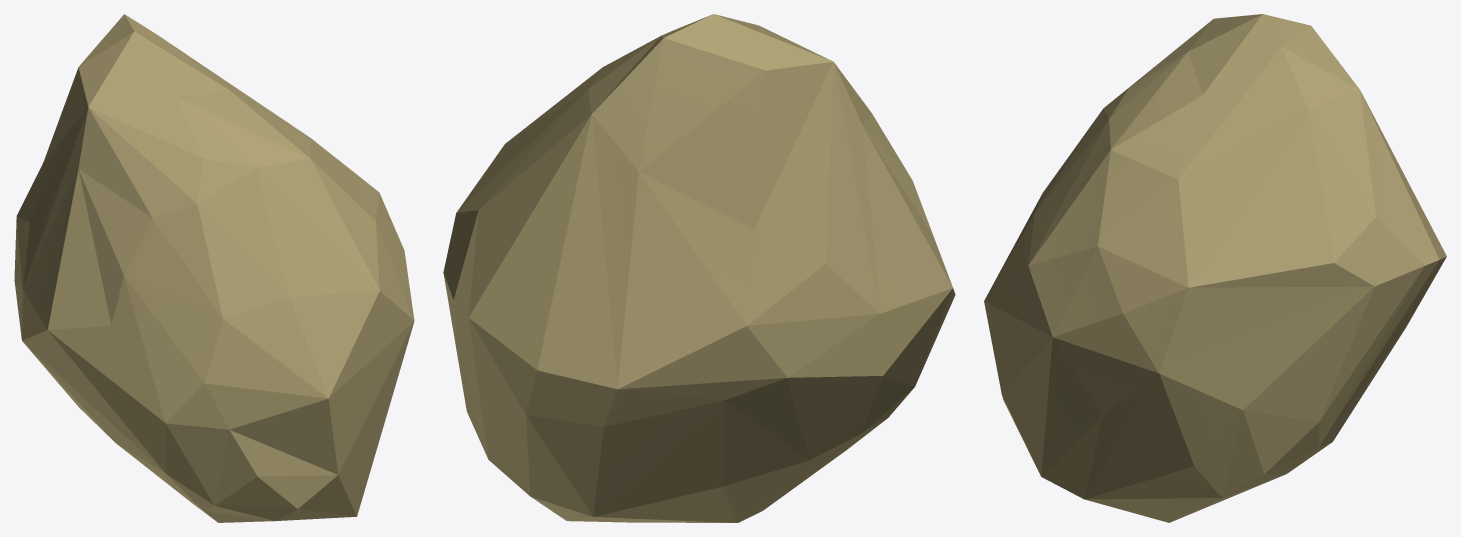
The model's file is SM_small_rock_45.fbx.
3 views of the same model, side by side, from view 1: azimuth 30°, elevation 25°; view 2: azimuth 150°, elevation 25°; view 3: azimuth 270°, elevation 25° (orthographic). The views are drawn at different scales.
Parts seen in each view (by area): view 1: small_rock_45; view 2: small_rock_45; view 3: small_rock_45.
Boxes of the visible parts, bbox=[...] form: small_rock_45: bbox=[14, 14, 414, 522]; small_rock_45: bbox=[443, 14, 955, 522]; small_rock_45: bbox=[984, 14, 1446, 522].
Bounding box in the file's own units: 105 × 132 × 122.
